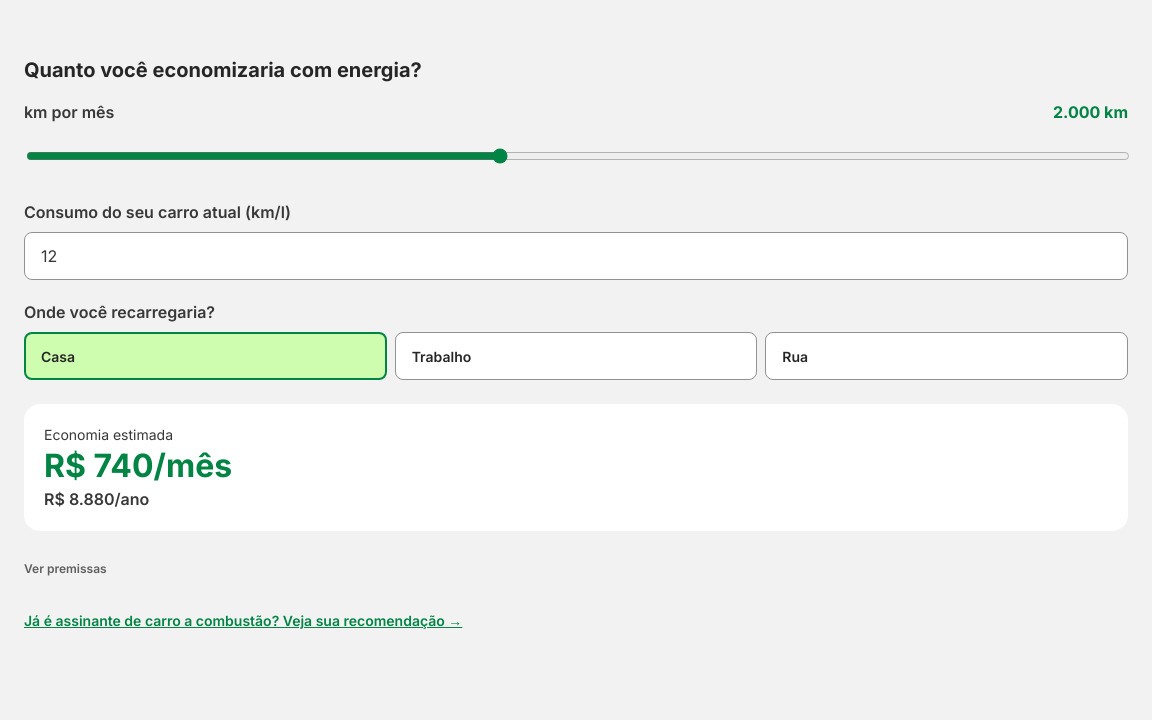
Test: SimuladorEconomia › slider de km atualiza o valor
Set the slider labelled "km por mês 2.000 km" to "1000" at (189, 156), box x1=26 y1=134 x2=1130 y2=178
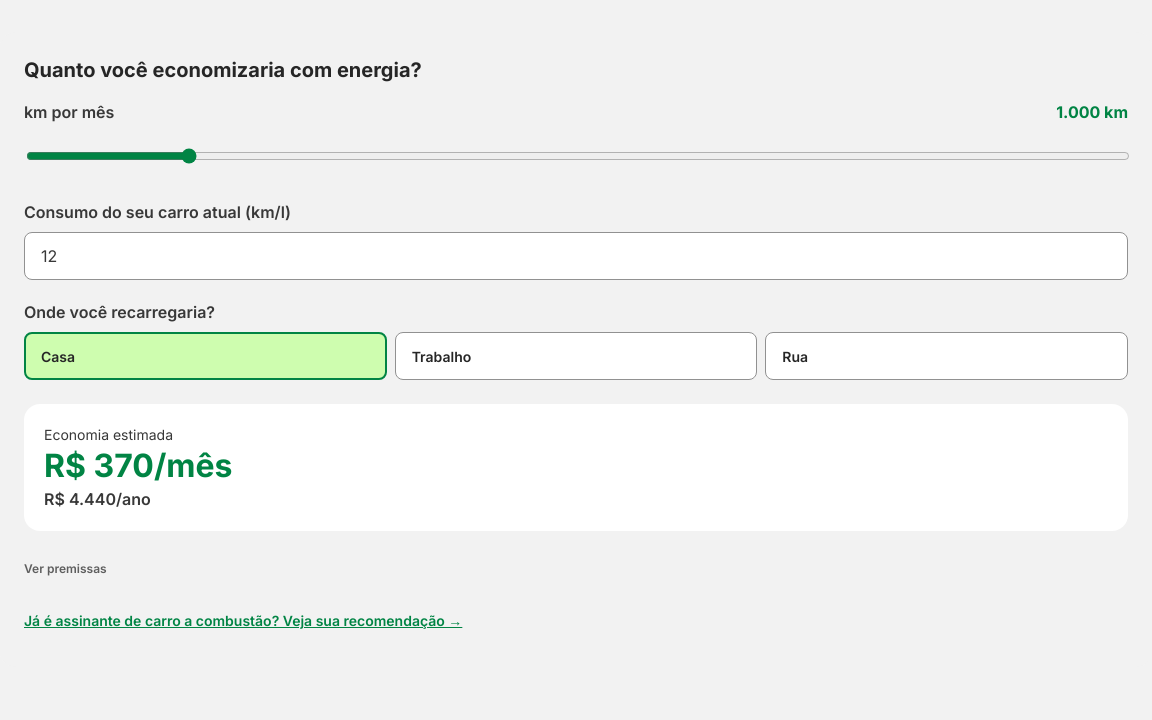
Now the text "R$ 370/mês" is shown, box x1=44 y1=446 x2=232 y2=485
